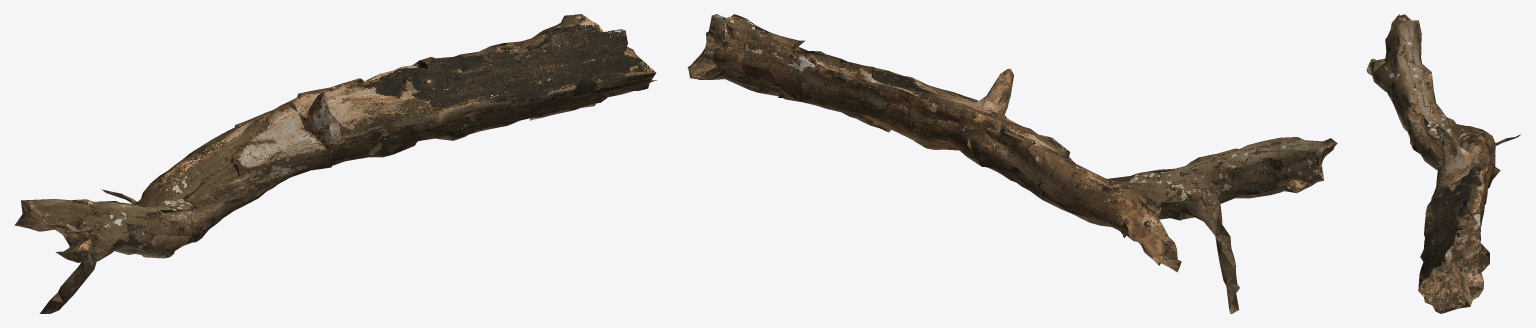
The model's file is dead_tree_trunk_02.glb.
The picture shows the model from 3 angles, left to right: view 1: azimuth 30°, elevation 25°; view 2: azimuth 150°, elevation 25°; view 3: azimuth 270°, elevation 25°; orthographic projection. The views are drawn at different scales.
Parts seen in each view (by area): view 1: mesh; view 2: mesh; view 3: mesh.
Boxes of the visible parts, x1,y1,x2,y2 form: mesh: [14, 14, 656, 313]; mesh: [687, 14, 1337, 313]; mesh: [1366, 14, 1520, 313].
Size of the model in its own units: 4.05 by 1.06 by 1.05.
1 material, 1 textured.
